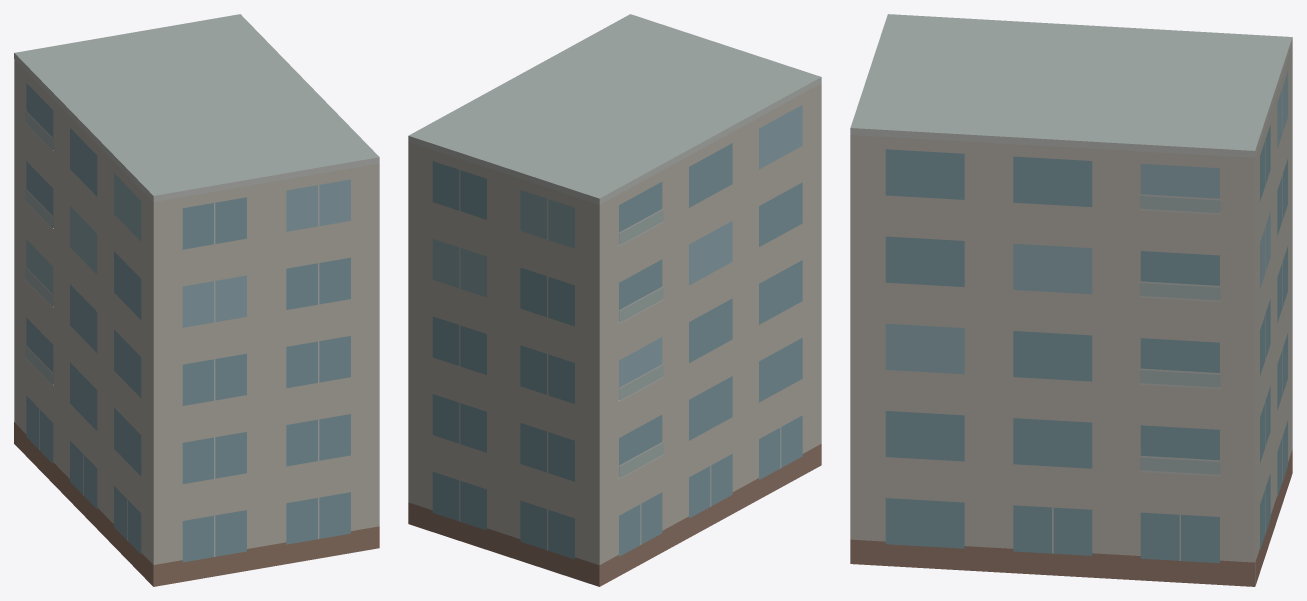
File: survey-upis-32631106.glb
3 views of the same model, side by side, from view 1: azimuth 30°, elevation 25°; view 2: azimuth 150°, elevation 25°; view 3: azimuth 270°, elevation 25° (orthographic). The views are drawn at different scales.
Visible parts, largest first — view 1: survey-upis-32631106.tmp; view 2: survey-upis-32631106.tmp; view 3: survey-upis-32631106.tmp.
Part boxes in pixels (x1,y1,x2,y2): survey-upis-32631106.tmp: (14, 14, 379, 586); survey-upis-32631106.tmp: (408, 14, 821, 586); survey-upis-32631106.tmp: (850, 14, 1292, 586).
Bounding box in the file's own units: 10.32 × 15.3 × 14.08.
